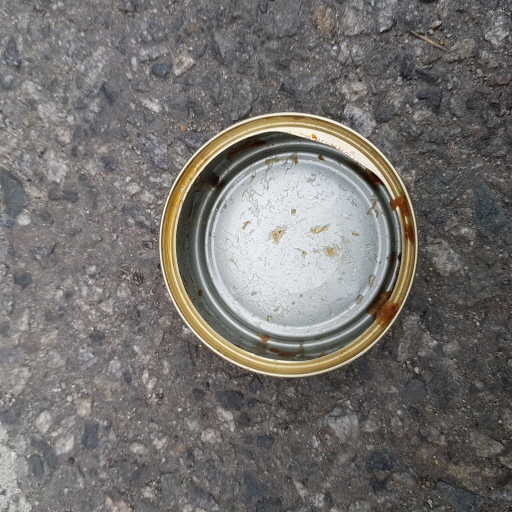Metal_1: (156, 110, 418, 380)
